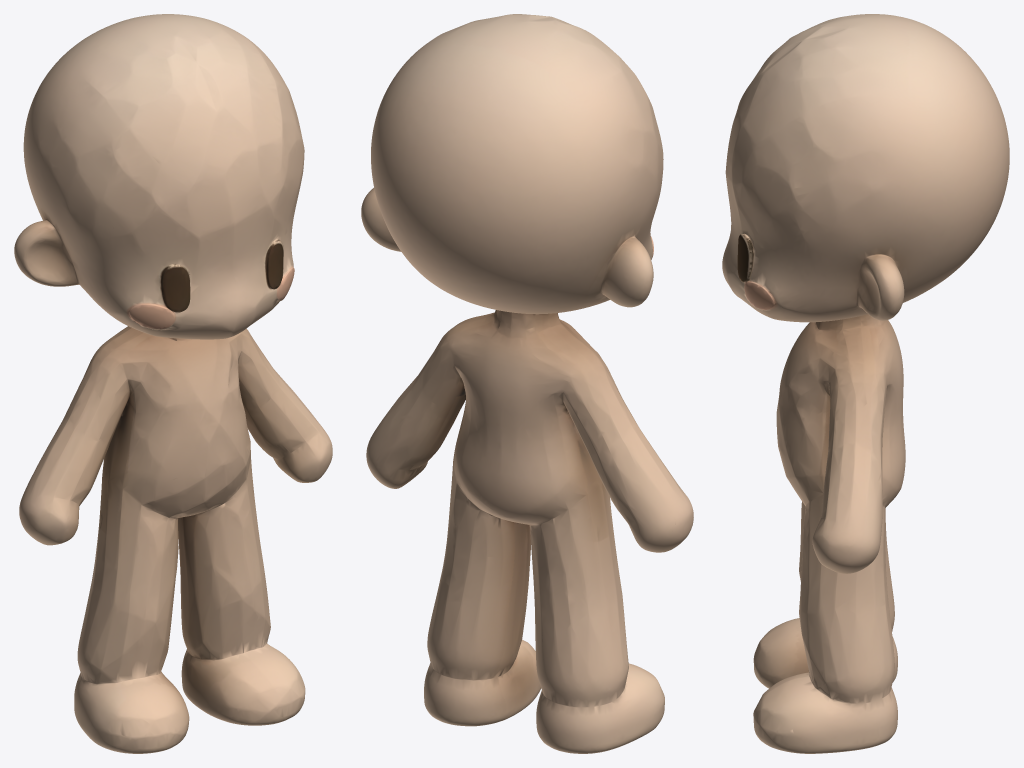
The model's file is source-50k.glb.
3 views of the same model, side by side, from view 1: azimuth 30°, elevation 25°; view 2: azimuth 150°, elevation 25°; view 3: azimuth 270°, elevation 25° (orthographic). The views are drawn at different scales.
Visible parts, largest first — view 1: node_0; view 2: node_0; view 3: node_0.
Part boxes in pixels (bbox=[...]): node_0: bbox=[14, 14, 332, 753]; node_0: bbox=[361, 14, 693, 753]; node_0: bbox=[722, 14, 1009, 753].
Bounding box in the file's own units: 0.5368 × 1.14 × 0.4365.
Materials: 1 (1 with a texture image).
